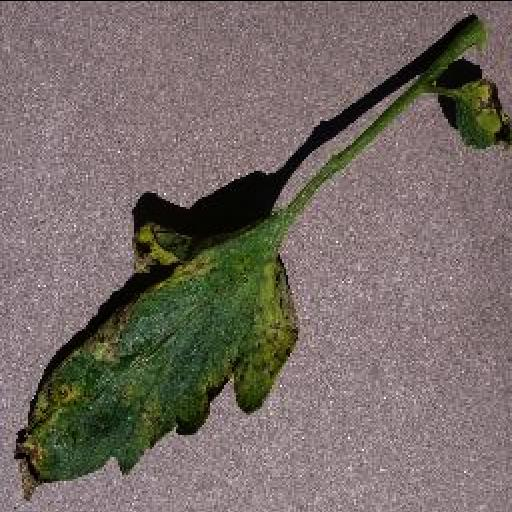disease_tomato: (12, 204, 298, 498)
